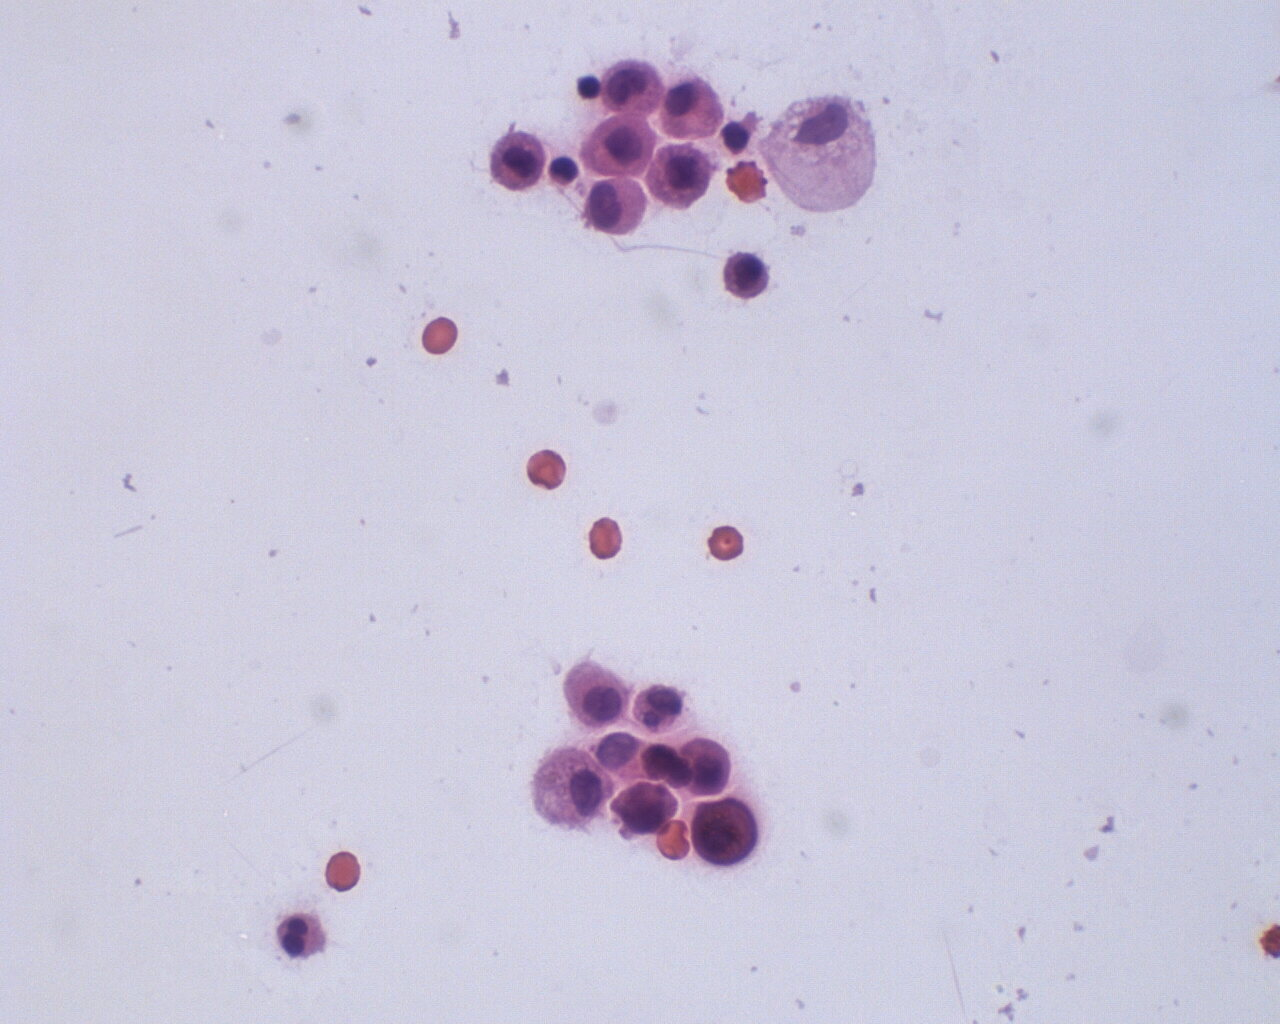ab: (690, 798, 761, 869), (609, 779, 680, 838)
histo: (754, 88, 884, 215)
lymph: (574, 71, 601, 101)
meso: (529, 743, 613, 832), (584, 113, 658, 180), (646, 144, 716, 213), (564, 664, 633, 734), (582, 174, 651, 238), (659, 76, 725, 141), (715, 247, 772, 308)
neutro: (275, 909, 325, 964)
